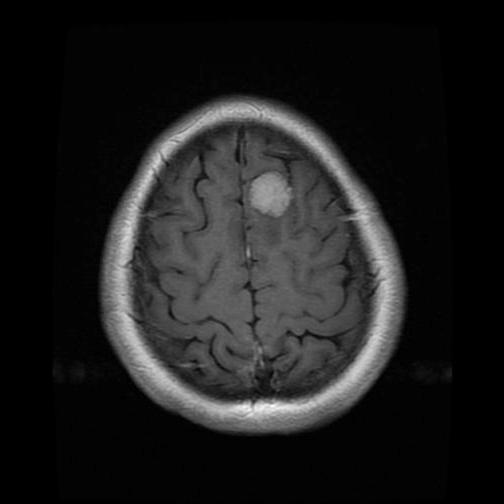Tumour-Meningioma: (233, 157, 313, 233)
